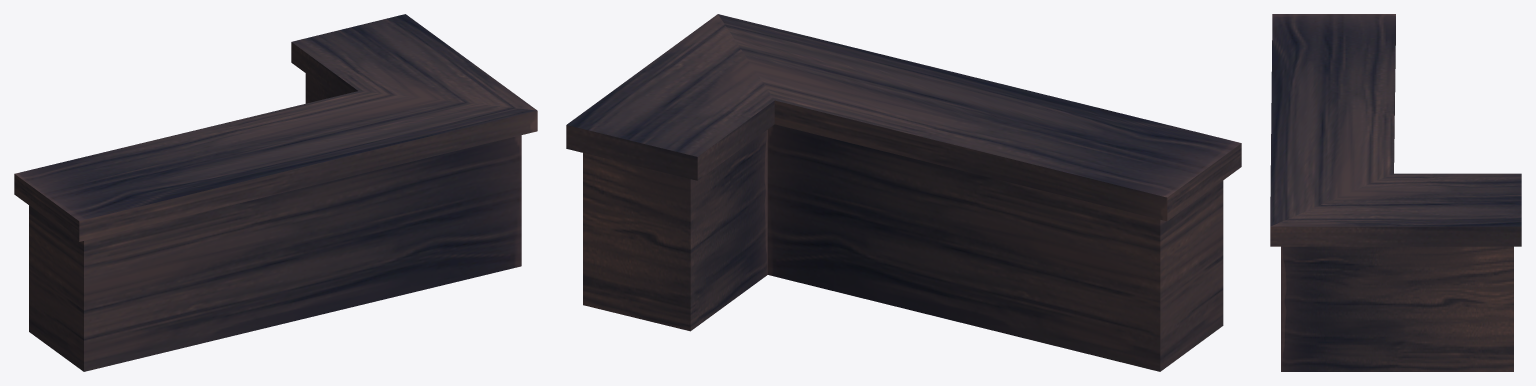
File: Counter_A.fbx
3 views of the same model, side by side, from view 1: azimuth 30°, elevation 25°; view 2: azimuth 150°, elevation 25°; view 3: azimuth 270°, elevation 25° (orthographic). The views are drawn at different scales.
Parts seen in each view (by area): view 1: Counter_A; view 2: Counter_A; view 3: Counter_A.
Part boxes in pixels (<box>): Counter_A: <box>14,14,537,371</box>; Counter_A: <box>566,14,1241,371</box>; Counter_A: <box>1270,14,1521,371</box>.
Size of the model in its own units: 0.6266 by 0.2062 by 0.3133.
